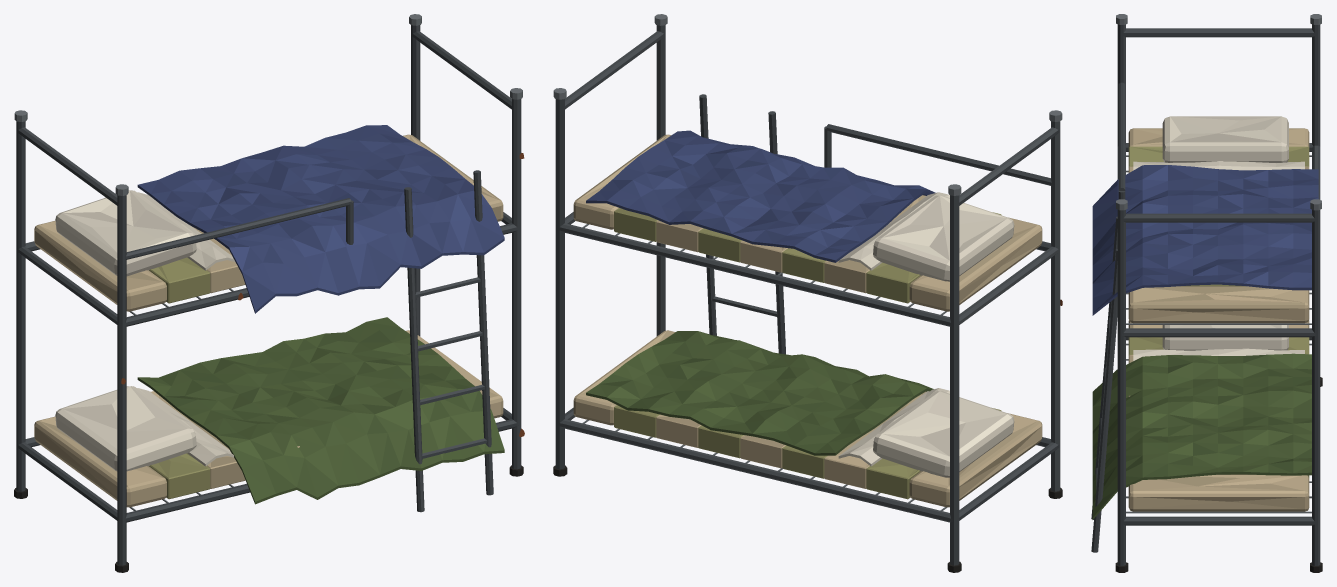
The model's file is bunk_bed_metallicheskaya_idle.glb.
3 renders of one model, left to right at view 1: azimuth 30°, elevation 25°; view 2: azimuth 150°, elevation 25°; view 3: azimuth 270°, elevation 25°, orthographic. The views are drawn at different scales.
Visible parts, largest first — view 1: bunk_bed_metallicheskaya_idle; view 2: bunk_bed_metallicheskaya_idle; view 3: bunk_bed_metallicheskaya_idle.
Boxes of the visible parts, x1,y1,x2,y2 form: bunk_bed_metallicheskaya_idle: (14,14,524,572); bunk_bed_metallicheskaya_idle: (553,14,1062,572); bunk_bed_metallicheskaya_idle: (1091,14,1322,572).
Bounding box in the file's own units: 2 × 1.8 × 1.02.
Materials: 1 (1 with a texture image).
